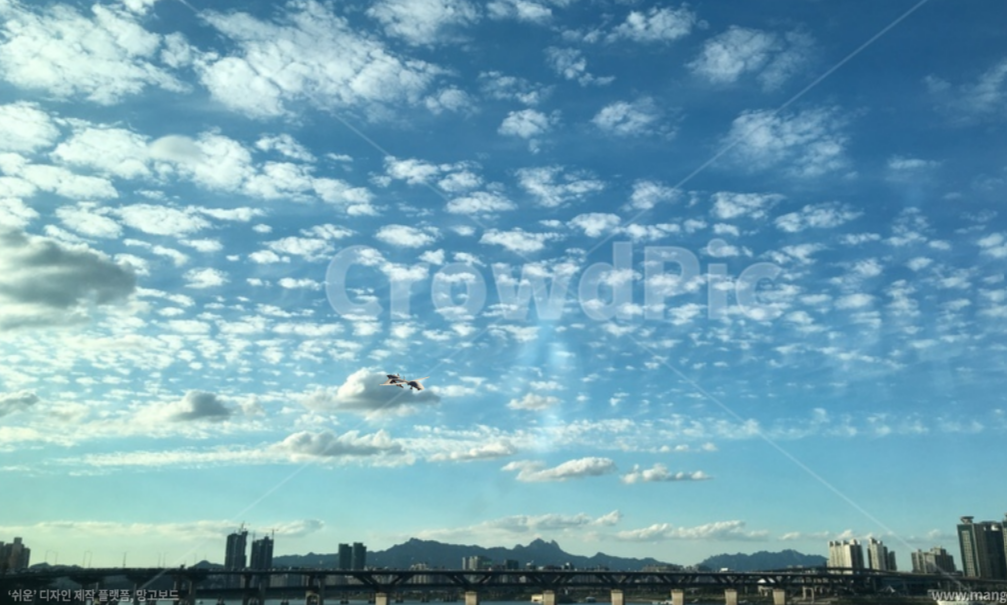military drone: (378, 373, 430, 391)
